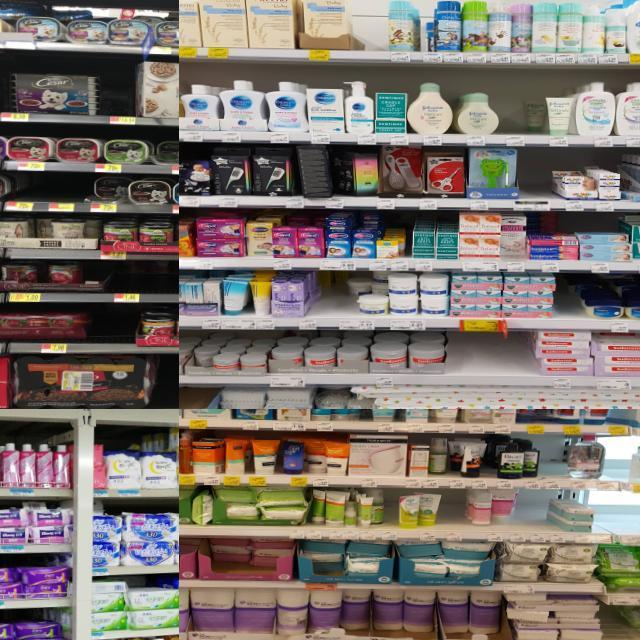empty: (447, 333, 523, 385), (112, 263, 179, 303), (104, 63, 138, 125), (518, 150, 552, 211), (90, 307, 134, 353), (362, 0, 390, 62), (499, 84, 526, 146), (538, 438, 568, 488), (520, 489, 548, 542), (46, 172, 82, 212), (156, 352, 179, 409), (440, 490, 466, 540), (593, 498, 619, 544), (604, 438, 626, 490), (13, 173, 43, 211), (322, 286, 345, 330), (554, 292, 578, 332), (603, 607, 632, 640), (622, 495, 640, 544), (384, 488, 398, 538)
